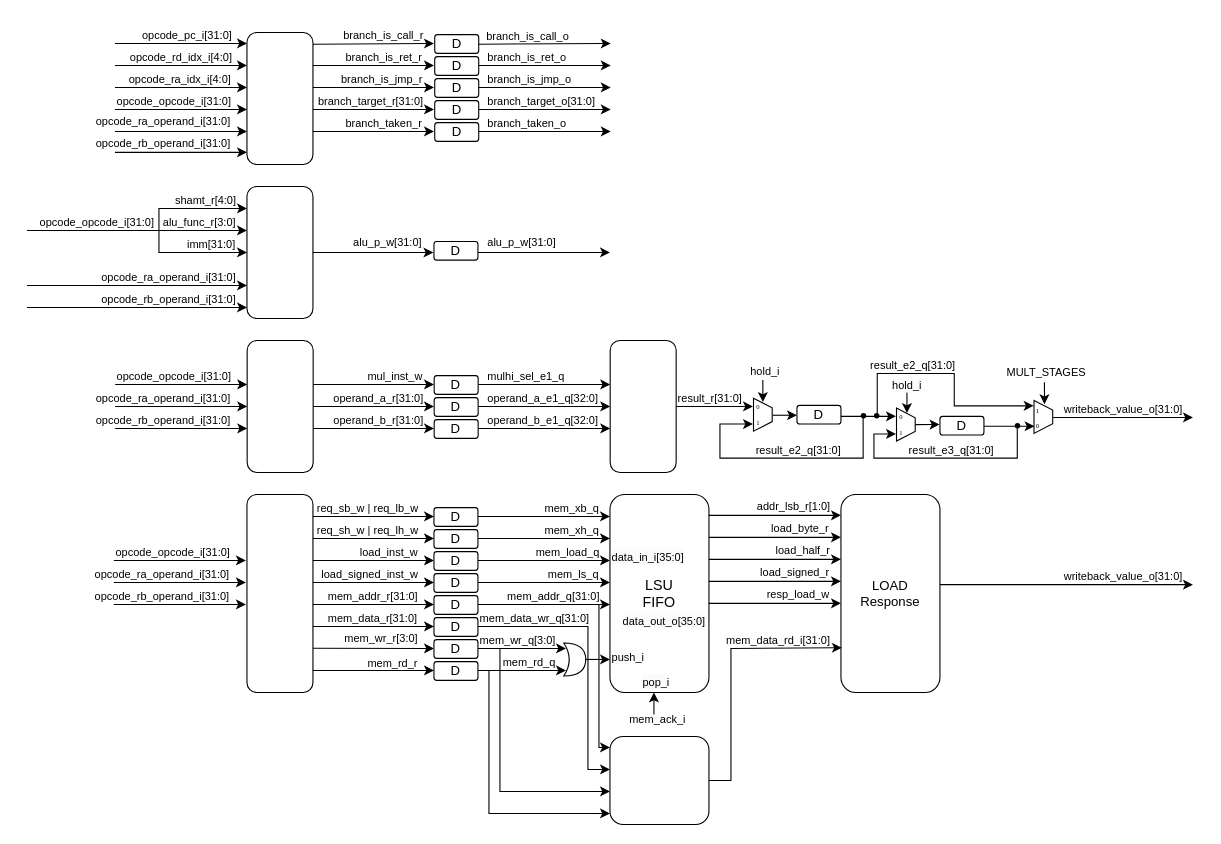
This 1221x844 diagram has some shape labels left out. Each missing label, with the centre of its shape:
"ALU" goes at point (279, 251).
"Branch" goes at point (279, 97).
"LSU" goes at point (279, 592).
"MMU" goes at point (659, 779).
"MUL" goes at point (642, 405).
"MUL Decode" goes at point (279, 405).
